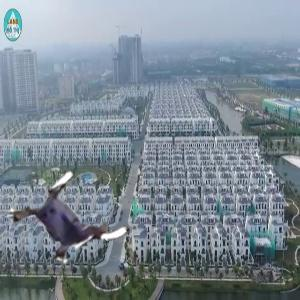drone: (14, 168, 123, 277)
